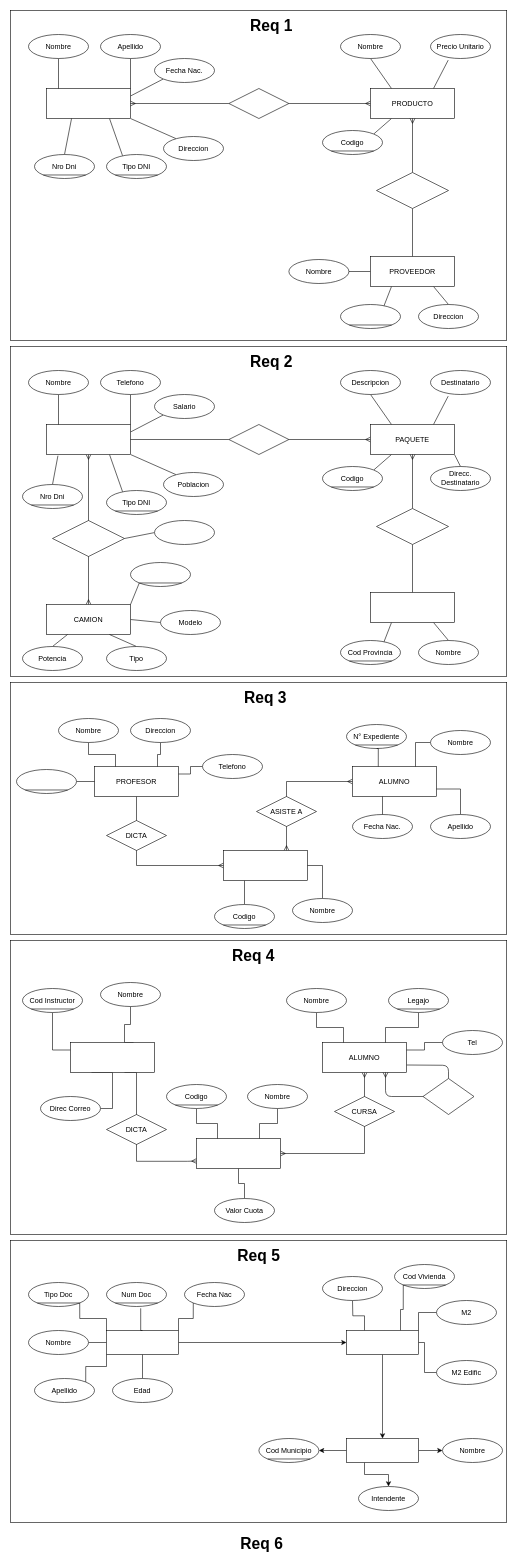
Image size: 517x1563. Some labels were removed from this diagram. The shapes that lost their labels are listed below. From the top down, each one's centre as x and y in pixels, then its label:
At (x=88, y=103): "CLIENTE".
At (x=258, y=103): "COMPRA".
At (x=412, y=190): "ES PROVEIDO".
At (x=370, y=316): "NIF".
At (x=88, y=439): "CAMIONERO".
At (x=258, y=439): "DISTRIBUYE".
At (x=88, y=538): "MANEJA".
At (x=184, y=532): "Fecha".
At (x=412, y=526): "LLEGA".
At (x=160, y=574): "Matricula".
At (x=412, y=607): "PROVINCIA".
At (x=46, y=781): "DNI".
At (x=265, y=865): "MÓDULO".
At (x=112, y=1057): "INSTRUCTOR".
At (x=448, y=1096): "DELEGADO".
At (x=238, y=1153): "CURSO".
At (x=142, y=1342): "HABITANTE".
At (x=382, y=1342): "VIVIENDA".
At (x=382, y=1450): "MUNICIPIO".
